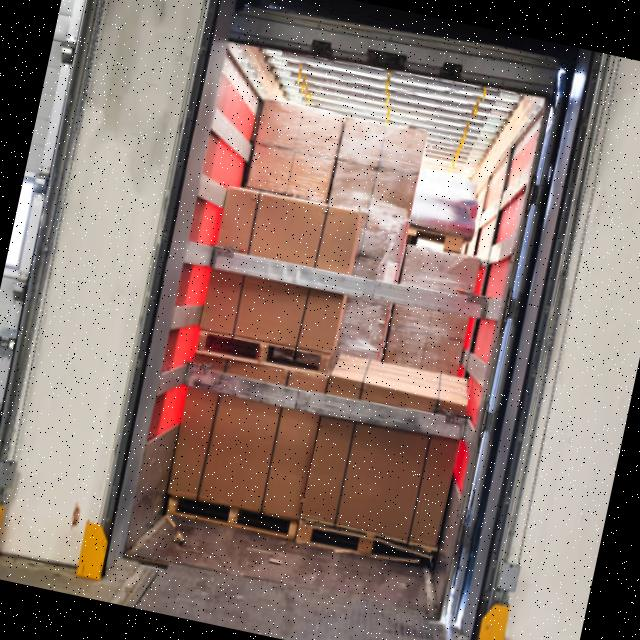Wooden-Pallets: (166, 491, 406, 560), (158, 488, 299, 552), (191, 323, 335, 383), (300, 512, 410, 566)
